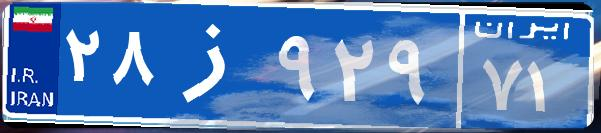1: (525, 38, 570, 115)
2: (330, 28, 385, 110), (57, 26, 110, 107)
7: (475, 38, 525, 113)
8: (110, 28, 158, 105)
9: (385, 28, 445, 110), (273, 28, 330, 110)
ز: (158, 15, 273, 115)
